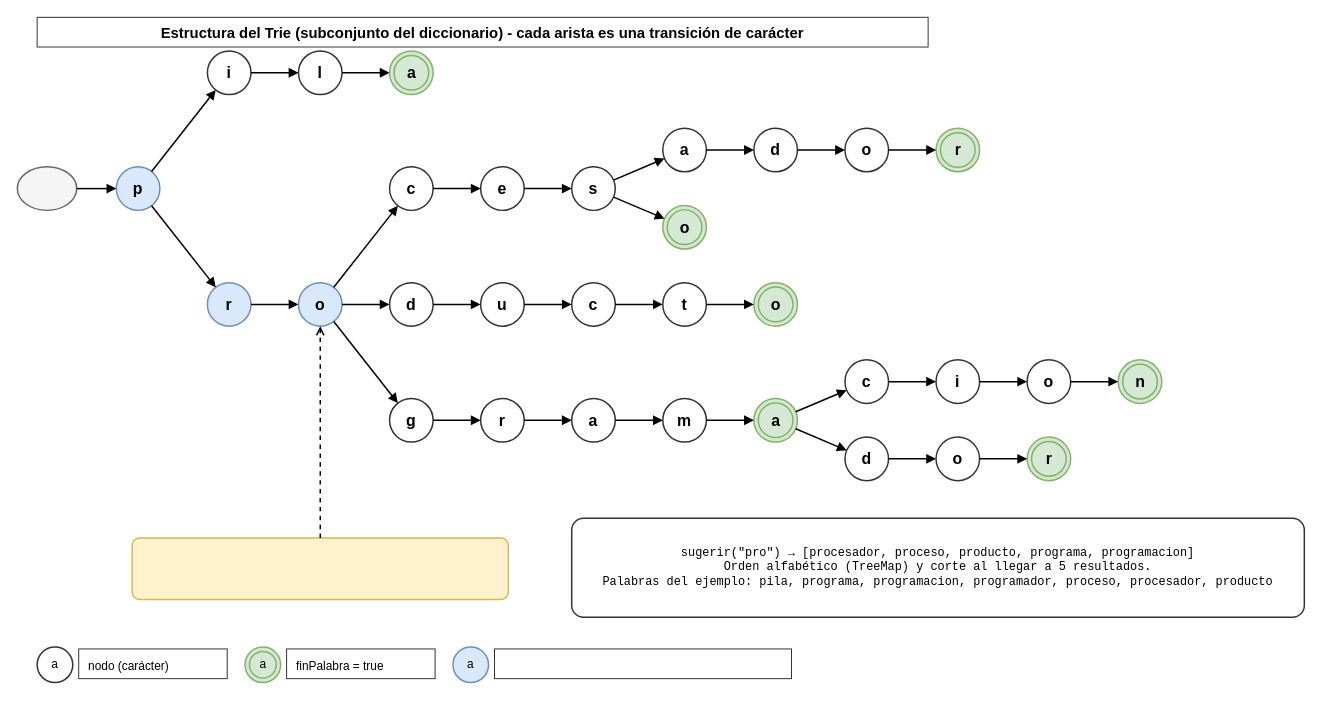
Some shapes in this 1323 by 701 pixel diagram are drawn without their labels. The shapes that lost their labels are listed below. From the top down, each one's box as (x1, y1, x2, y2) in pixels, then its label:
(16, 166, 77, 211): raíz
(131, 537, 509, 600): Nodo final del prefijo "pro" sugerir() hace el DFS desde aquí
(494, 648, 792, 679): camino del prefijo "pro"
